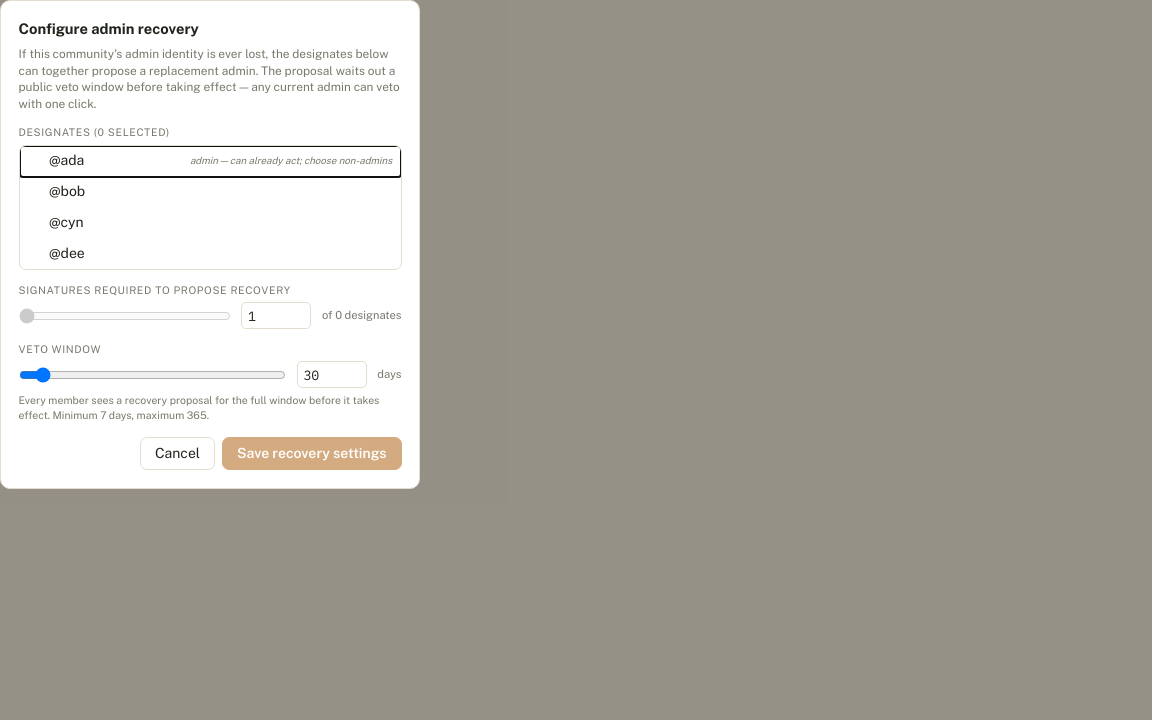
Test: RecoveryConfigDialog › clamps the threshold to the selected designate count
Click the option "@bob" at x=67, y=191, box [20,177,400,208]
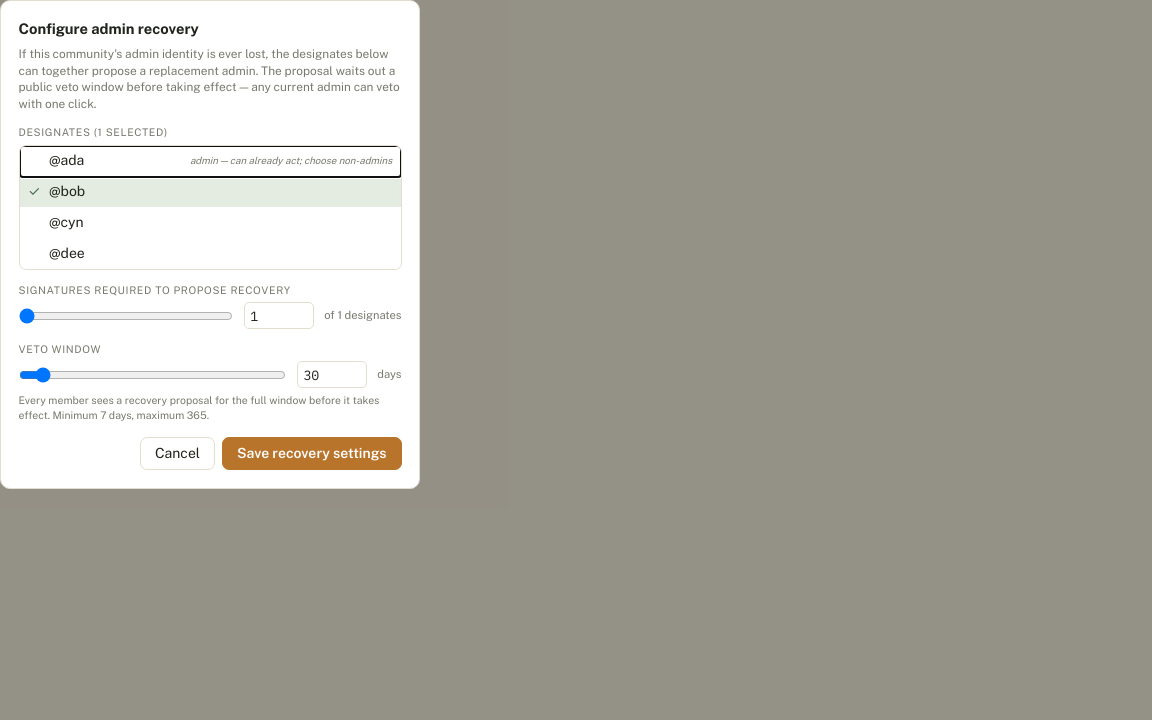
Click the option "@cyn" at x=66, y=222, box [20,207,400,238]
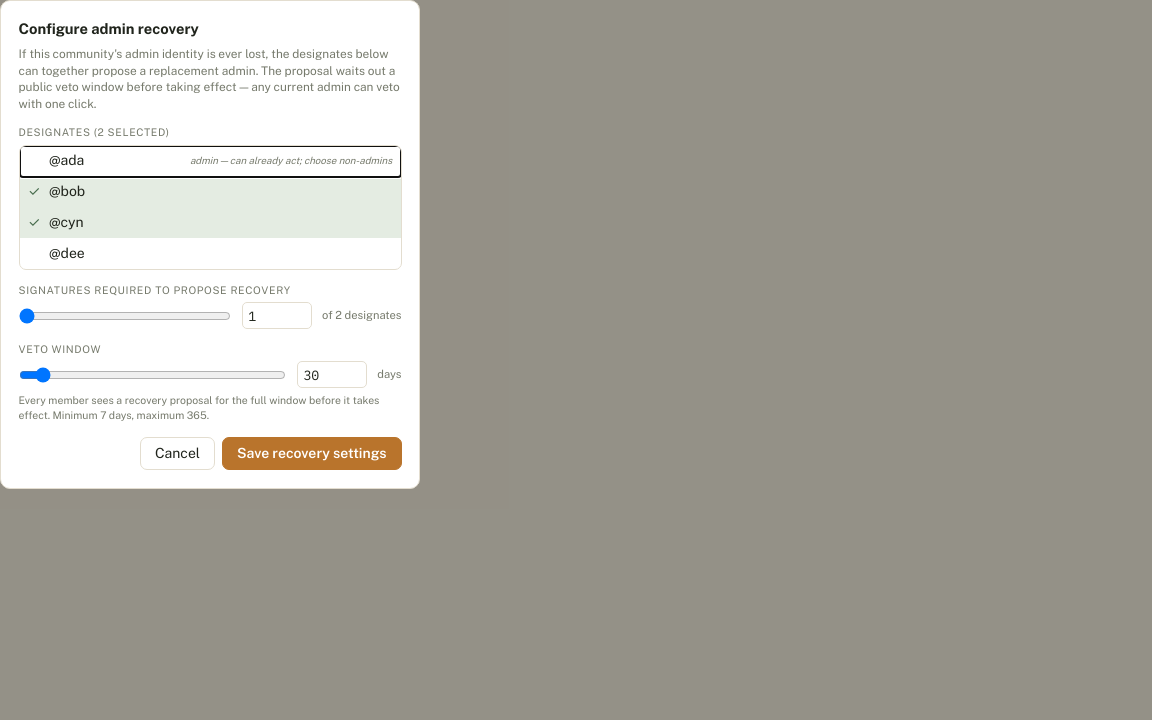
Replace the text in the number field named "Recovery threshold" with "2" at x=277, y=316, box [242,302,312,329]
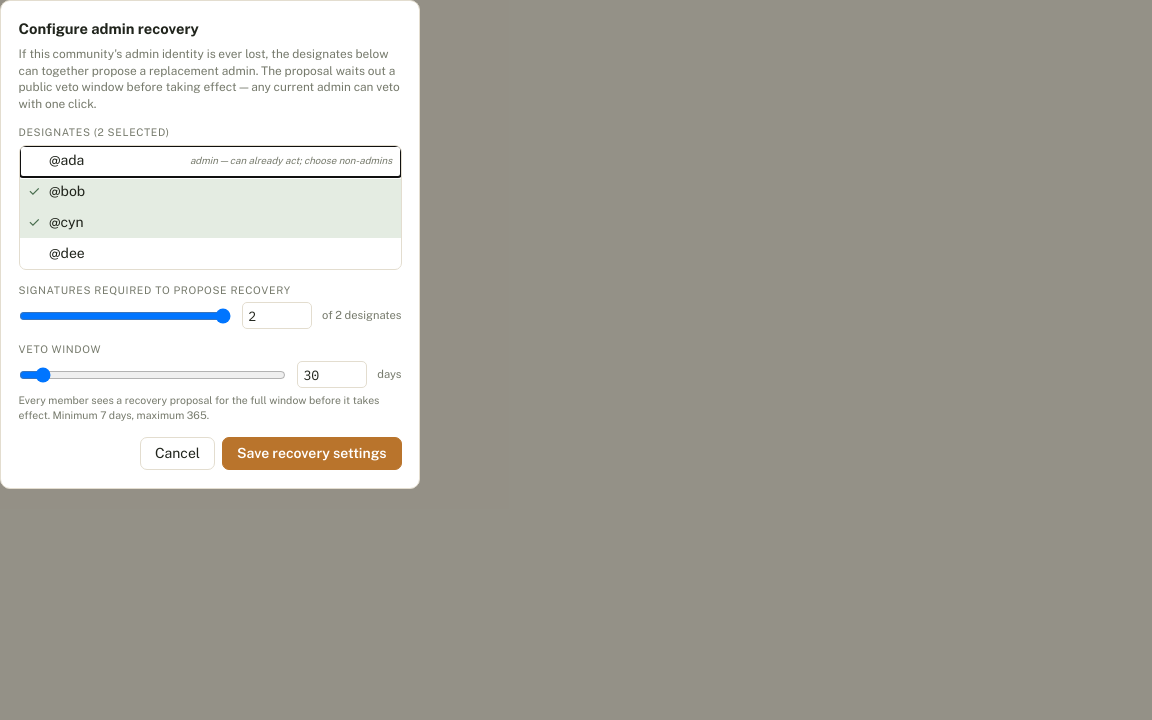
Deselect one designate → threshold clamps back to 1.
Click the option "✓ @cyn" at x=66, y=222, box [20,207,400,238]
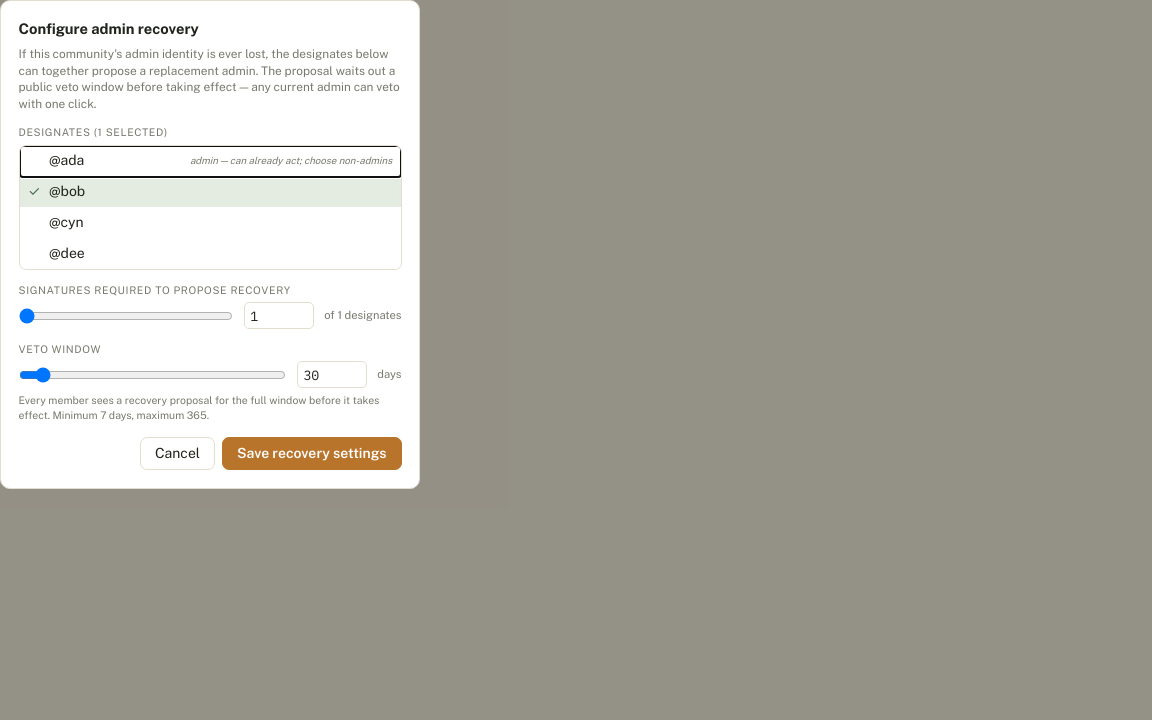
expect the number field named "Recovery threshold" holds "1": met, box [244,302,314,329]
